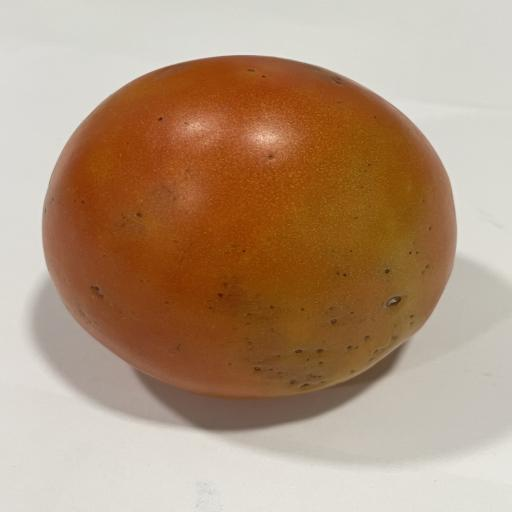ripe: (43, 56, 456, 398)
